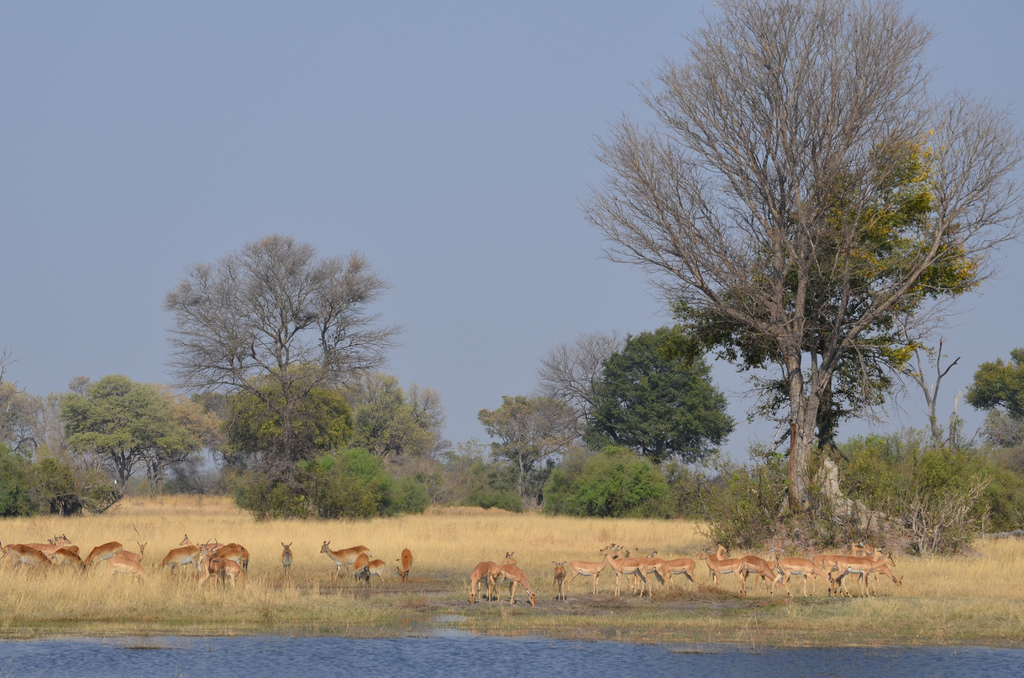Animal: (0, 528, 250, 582), (698, 540, 905, 605), (546, 540, 702, 599), (463, 552, 520, 602), (319, 536, 372, 579), (494, 563, 540, 609), (395, 544, 418, 579), (279, 540, 294, 573)
